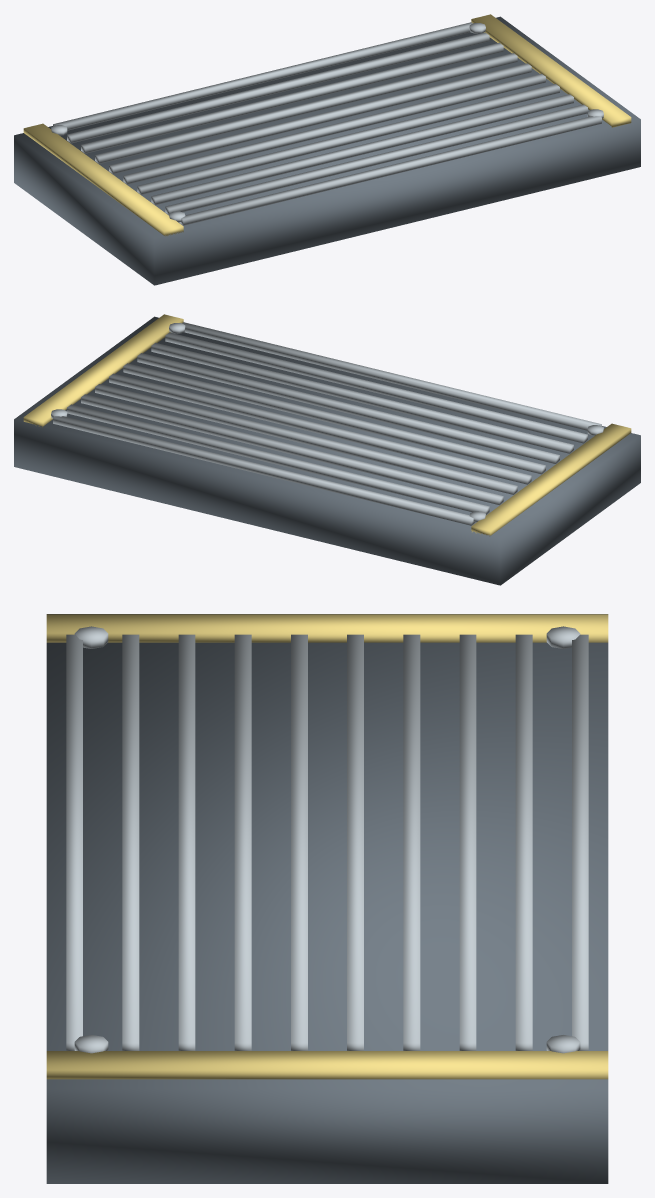
The model's file is floor_grate_enhanced.glb.
The picture shows the model from 3 angles, top to bottom: view 1: azimuth 30°, elevation 25°; view 2: azimuth 150°, elevation 25°; view 3: azimuth 270°, elevation 25°; orthographic projection. The views are drawn at different scales.
Visible parts, largest first — view 1: Base_dark, Grate_steel, Markings_yellow, AnchorBolt_steel; view 2: Base_dark, Grate_steel, Markings_yellow, AnchorBolt_steel; view 3: Base_dark, Grate_steel, Markings_yellow, AnchorBolt_steel.
Boxes of the visible parts, x1,y1,x2,y2 form: Base_dark: (14, 16, 640, 285); Grate_steel: (53, 22, 601, 225); Markings_yellow: (23, 14, 631, 236); AnchorBolt_steel: (51, 23, 603, 222); Base_dark: (14, 316, 640, 585); Grate_steel: (53, 322, 601, 525); Markings_yellow: (23, 314, 631, 536); AnchorBolt_steel: (51, 323, 603, 522); Base_dark: (46, 614, 608, 1183); Grate_steel: (66, 634, 588, 1050); Markings_yellow: (46, 614, 608, 1079); AnchorBolt_steel: (74, 626, 580, 1053).
Size of the model in its own units: 3 by 0.3205 by 1.5.
